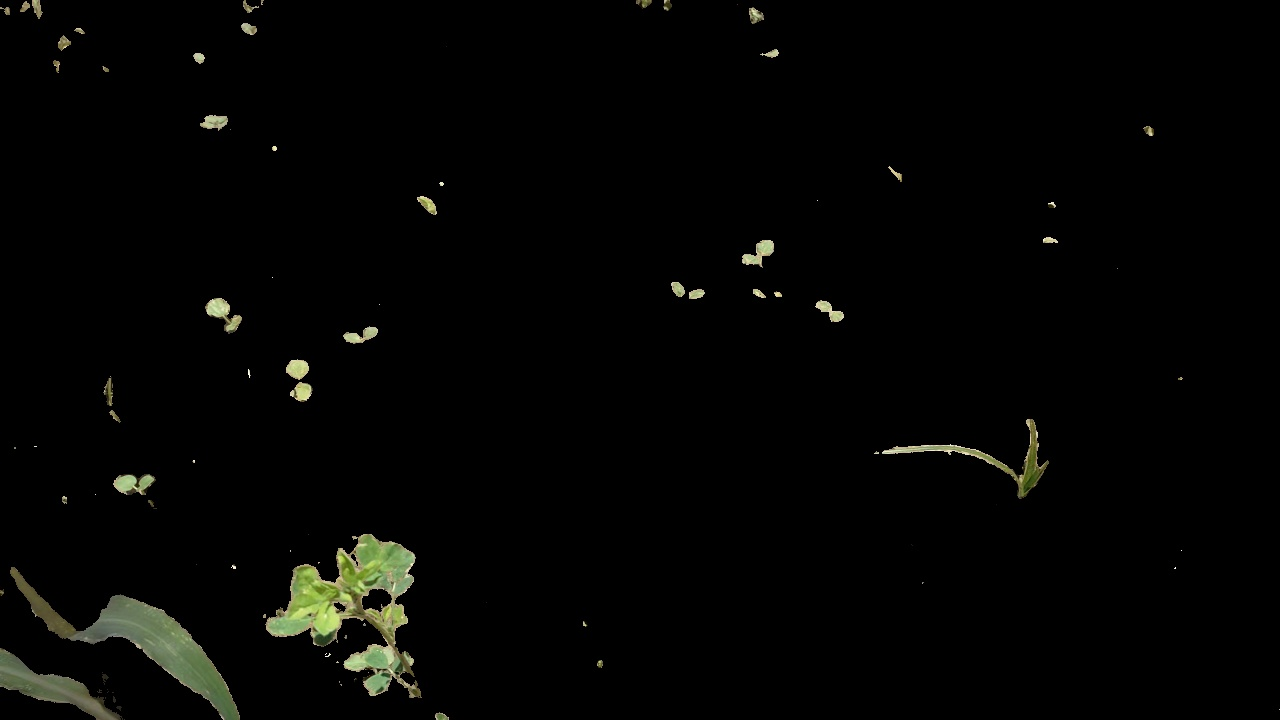crop: (1, 560, 237, 720)
weed: (264, 524, 429, 700), (867, 405, 1046, 503), (731, 231, 782, 274), (283, 359, 321, 401), (201, 298, 242, 335), (198, 104, 233, 144), (337, 321, 383, 350), (110, 471, 159, 498), (665, 274, 709, 301), (814, 294, 846, 327), (415, 188, 441, 214)
